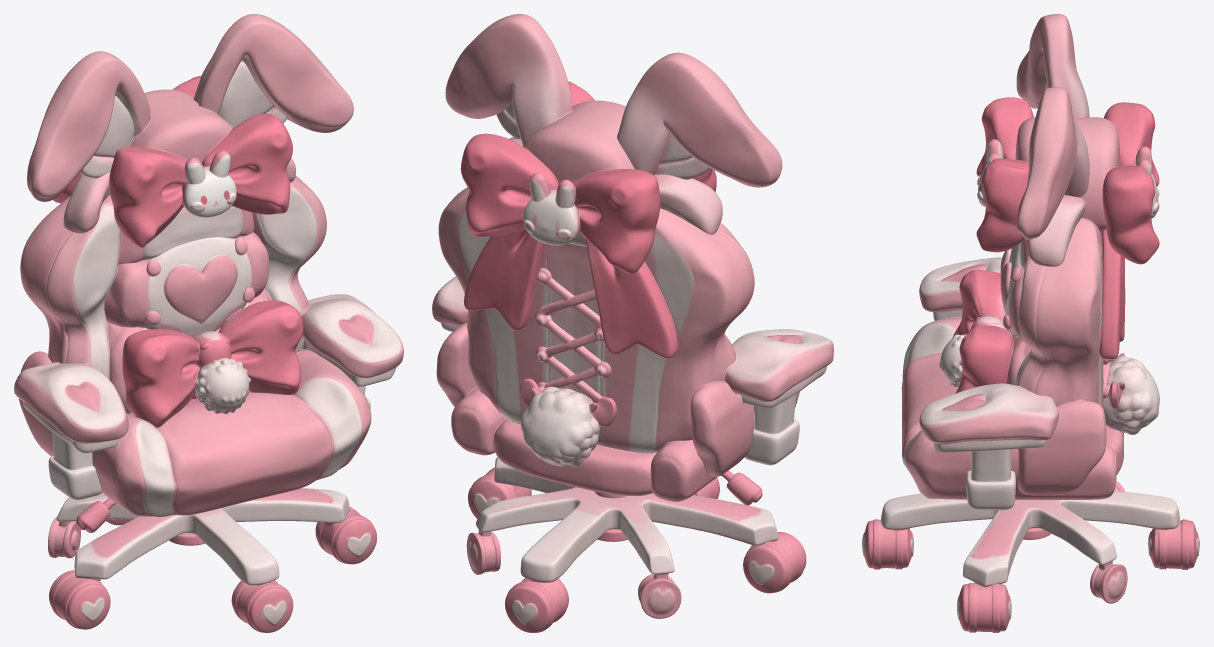
File: GamingChair.fbx
3 views of the same model, side by side, from view 1: azimuth 30°, elevation 25°; view 2: azimuth 150°, elevation 25°; view 3: azimuth 270°, elevation 25° (orthographic). The views are drawn at different scales.
Visible parts, largest first — view 1: 粉兔椅; view 2: 粉兔椅; view 3: 粉兔椅.
Part boxes in pixels (left/top/right/bottom): 粉兔椅: left=14, top=14, right=403, bottom=632; 粉兔椅: left=432, top=14, right=833, bottom=632; 粉兔椅: left=862, top=14, right=1199, bottom=632.
Bounding box in the file's own units: 0.6811 × 1 × 0.5948.
1 material, 1 textured.
